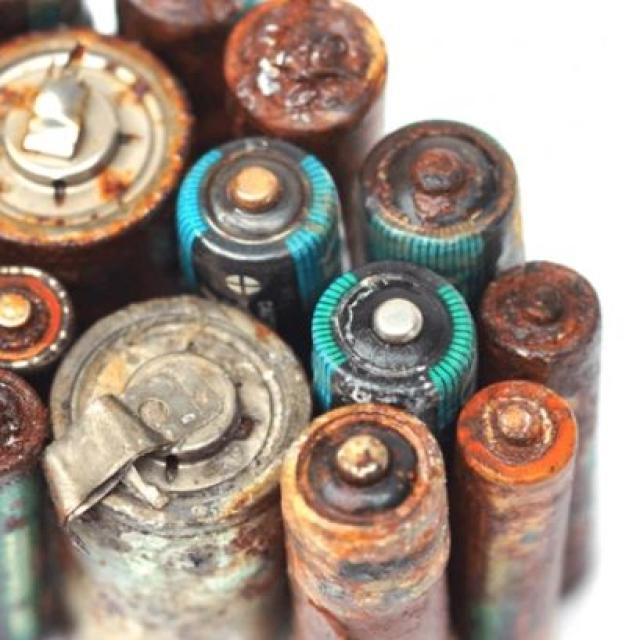electronic: (153, 113, 356, 324)
